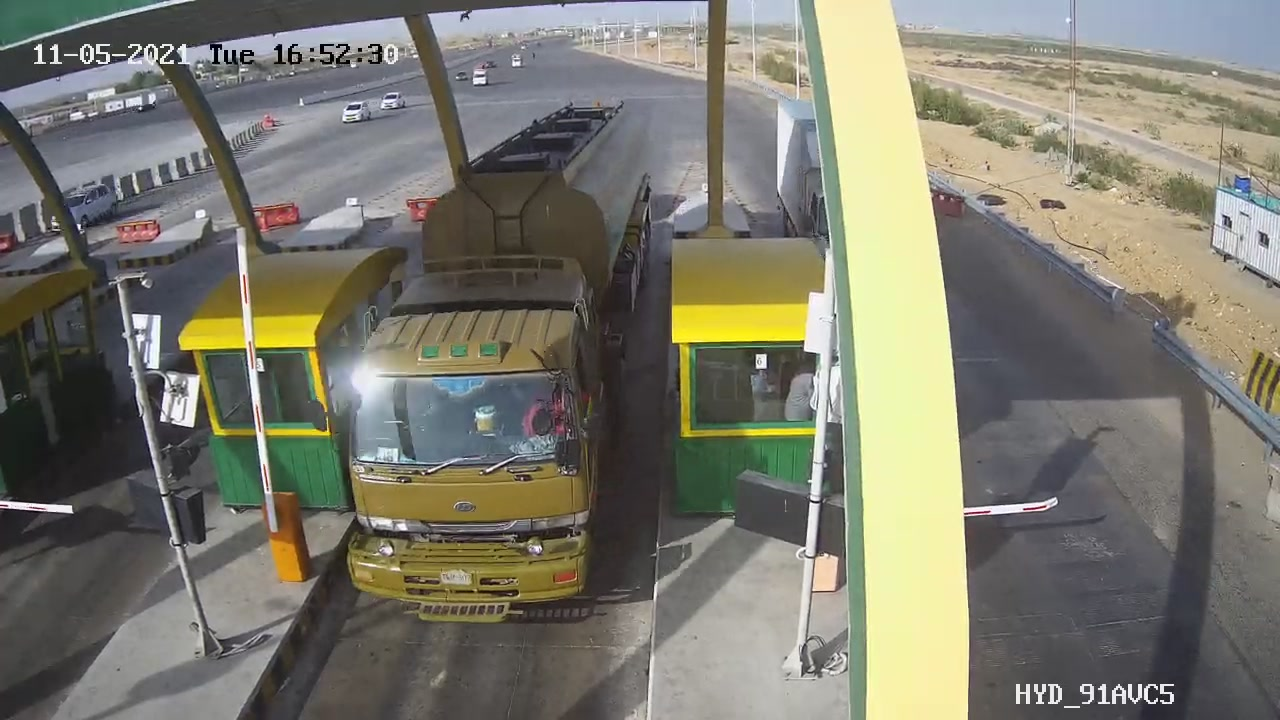F6: (292, 85, 689, 643)
